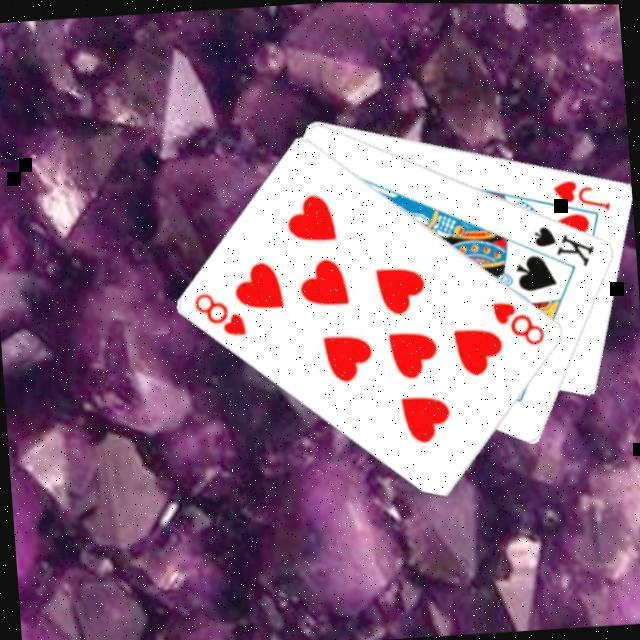8H: (491, 292, 552, 348), (191, 284, 252, 340)
JH: (551, 170, 616, 213)
KS: (531, 215, 600, 269)
